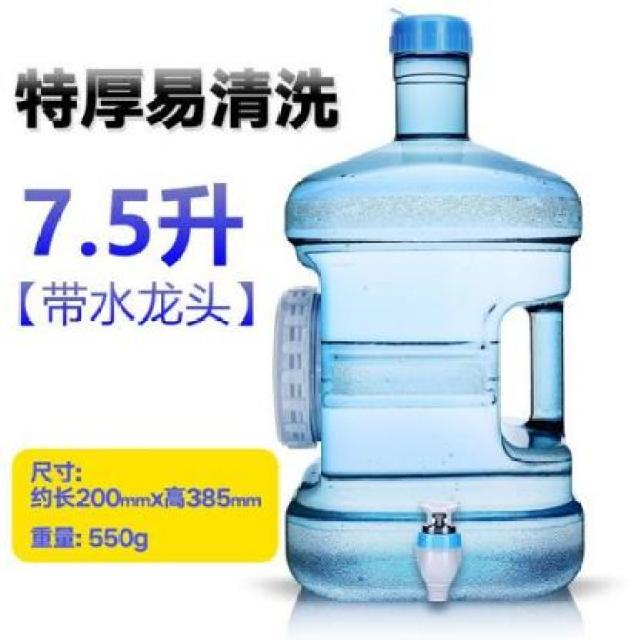coolerbottle: (269, 8, 591, 607)
